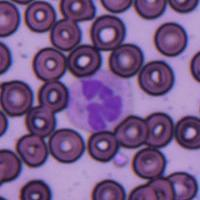N: (65, 70, 133, 133)
